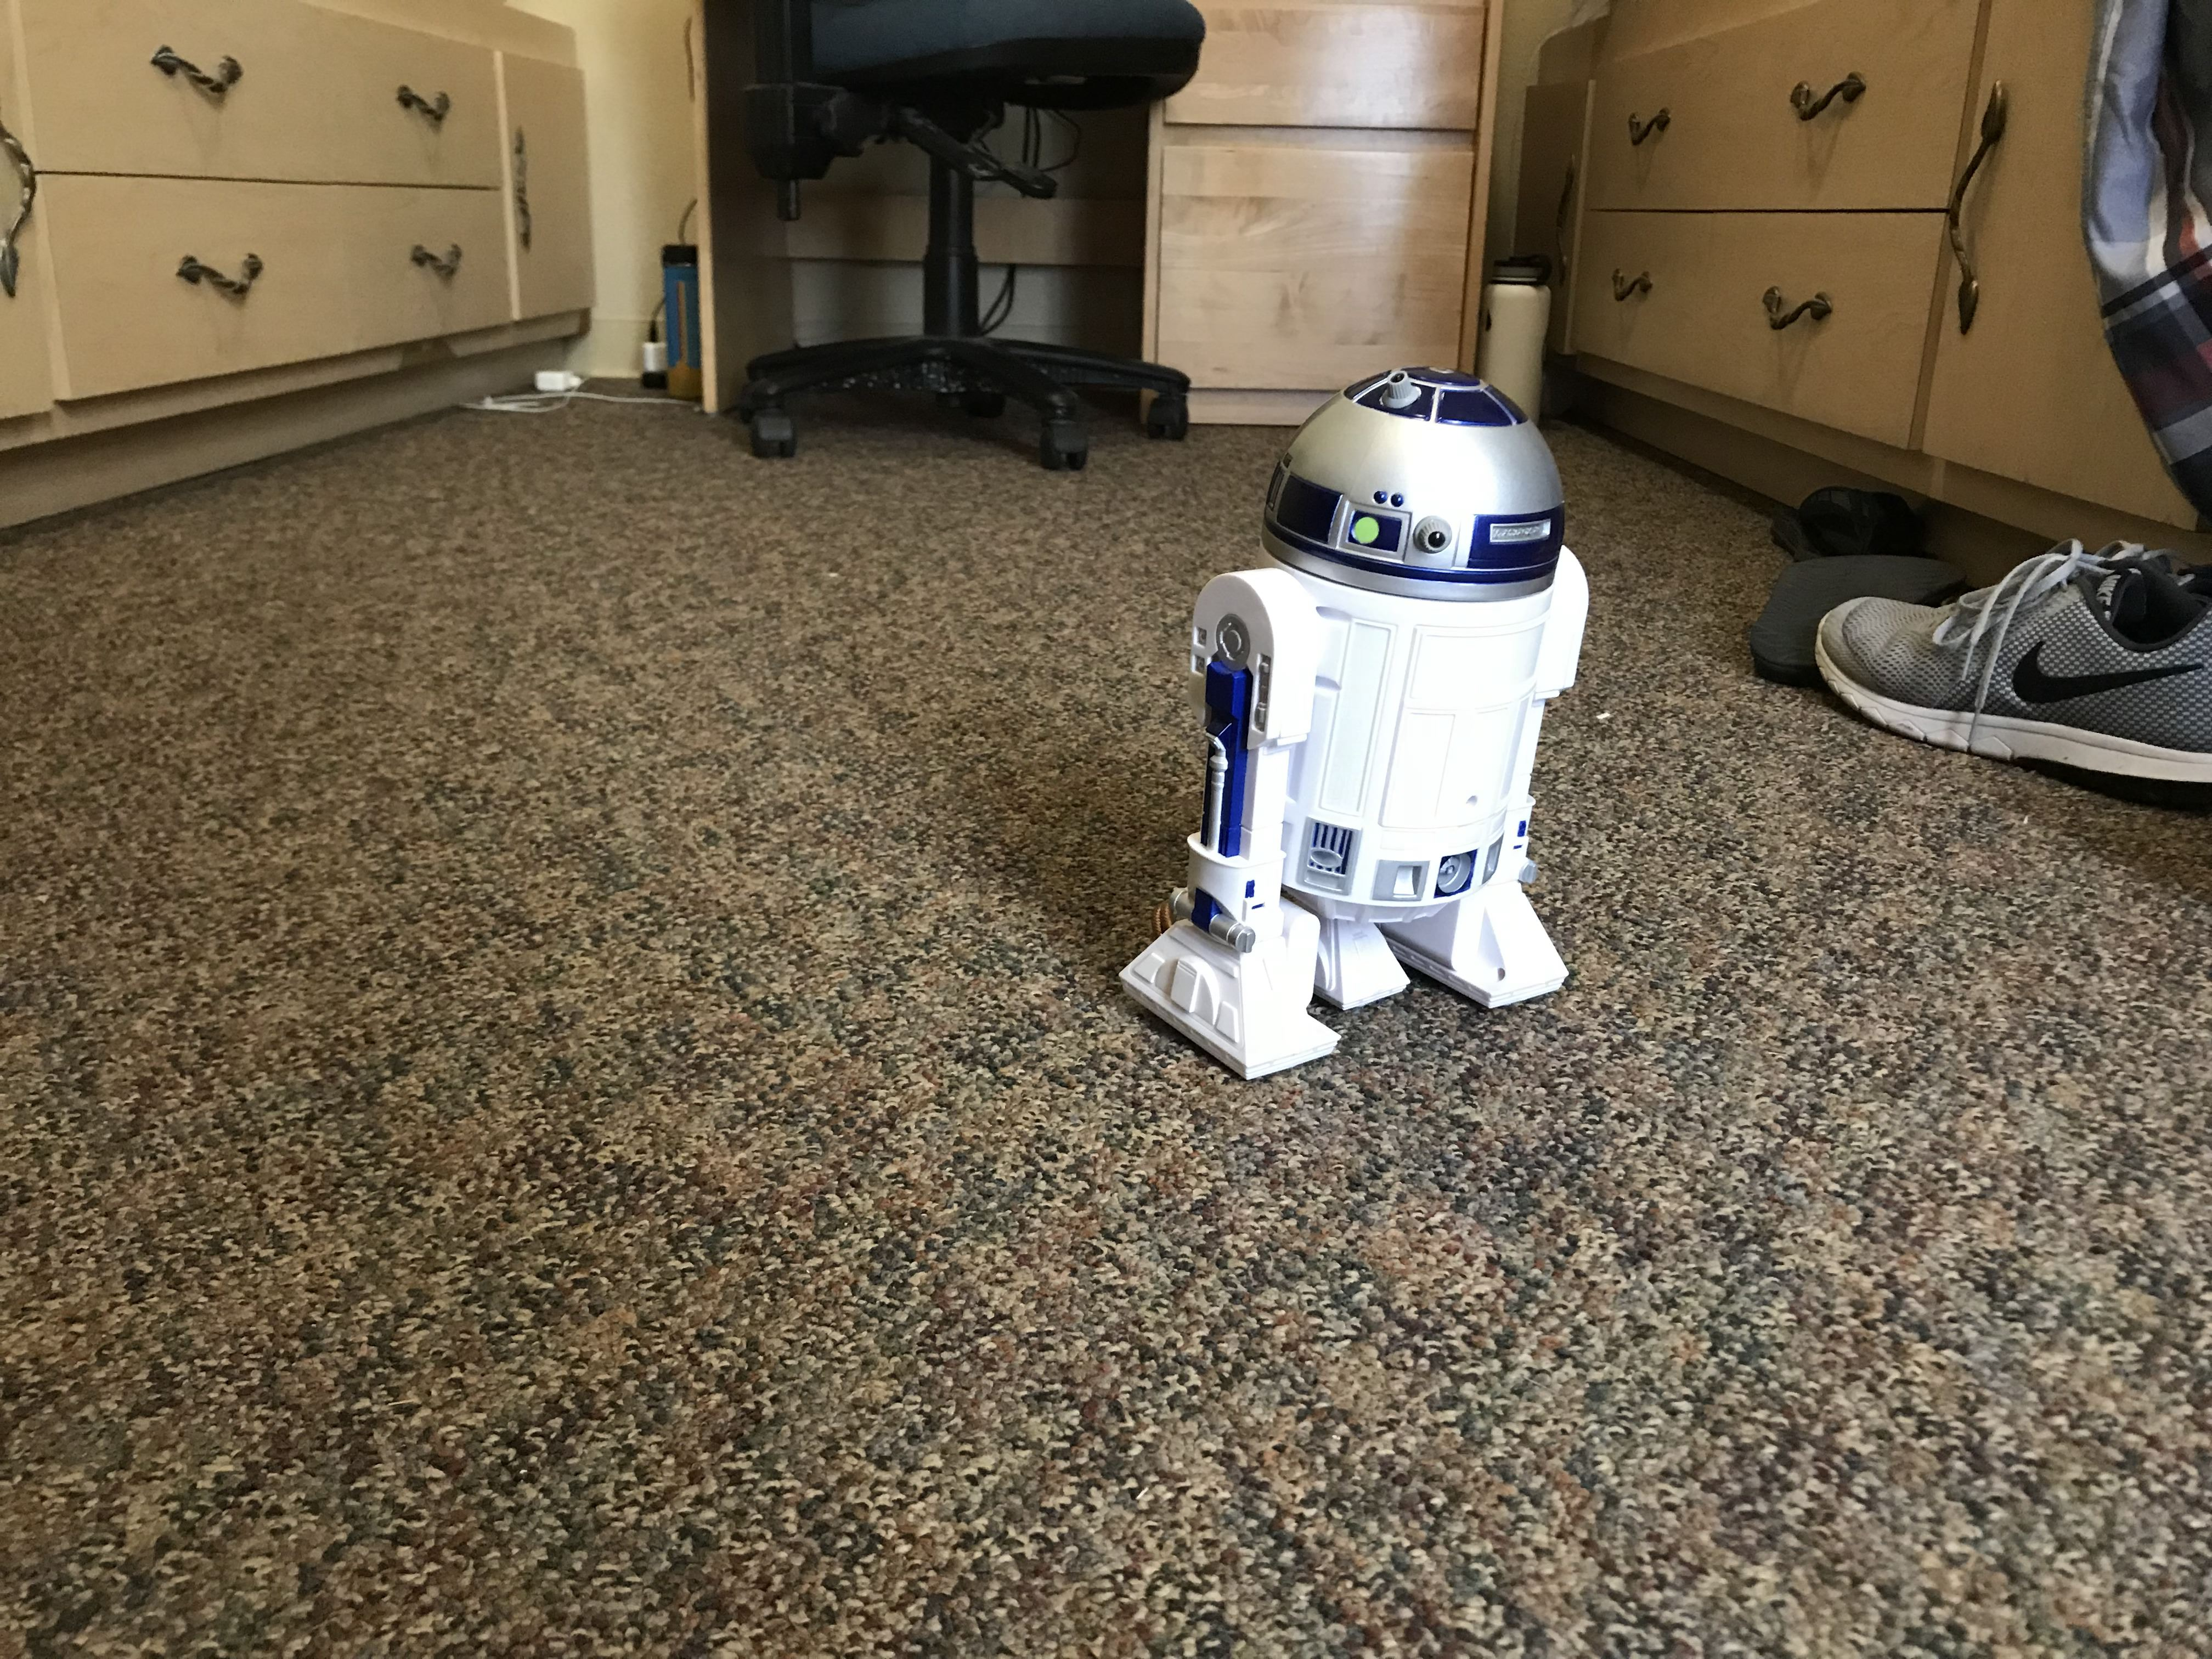r2d2: (1116, 369, 1569, 1080)
